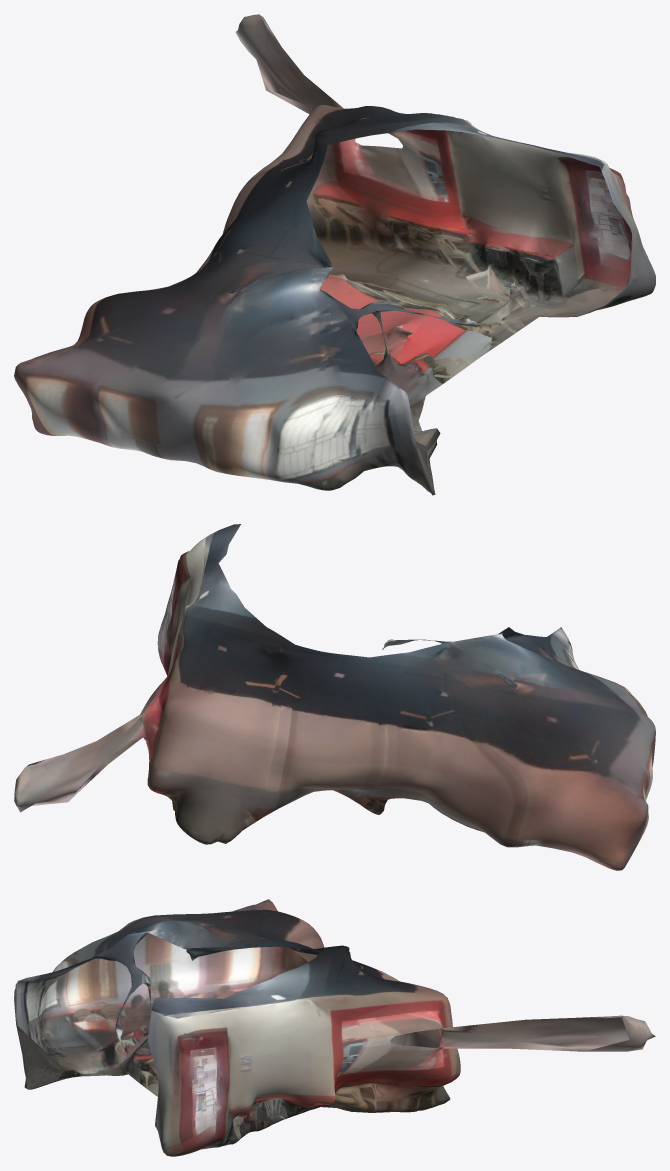
File: 3DModel.glb
3 views of the same model, one above another, from view 1: azimuth 30°, elevation 25°; view 2: azimuth 150°, elevation 25°; view 3: azimuth 270°, elevation 25° (orthographic). The views are drawn at different scales.
Parts seen in each view (by area): view 1: 3DModel; view 2: 3DModel; view 3: 3DModel.
Part boxes in pixels (box(x1,y1,x2,y2)): 3DModel: box(14, 14, 655, 495); 3DModel: box(14, 524, 655, 870); 3DModel: box(14, 899, 655, 1156).
Size of the model in its own units: 3.65 by 1.33 by 4.17.
1 material, 1 textured.
